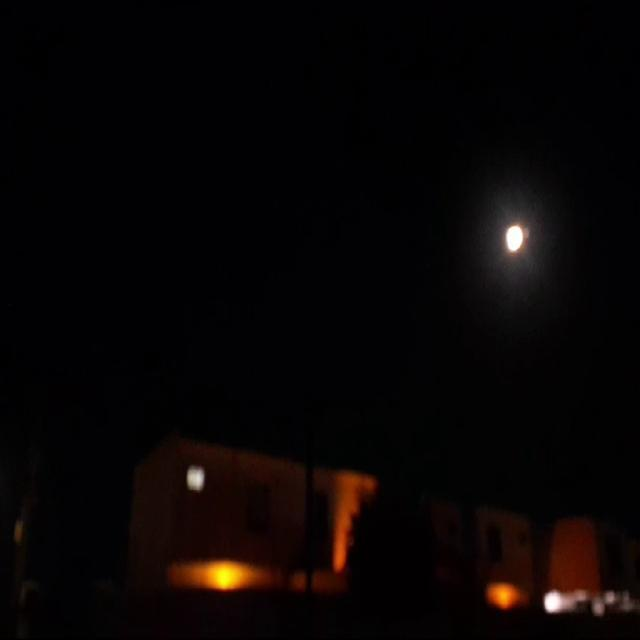moon: (505, 204, 528, 238)
